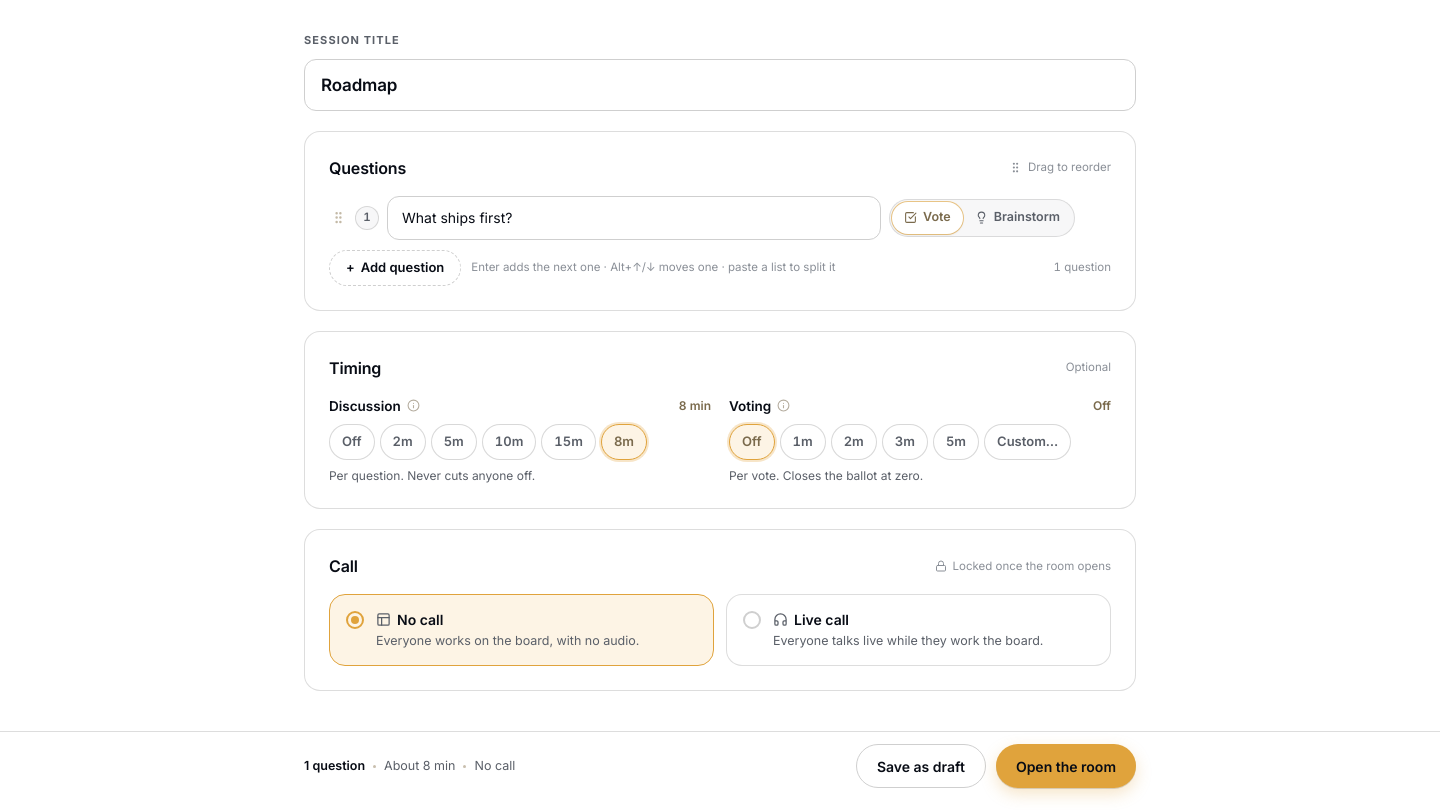
SessionQuestionsForm timers and call › shows a length that is no preset on the Custom chip, with the spinners shut
This screenshot has width=1440, height=810.
Click the button "8m" at (624, 442), box [601, 424, 647, 460]
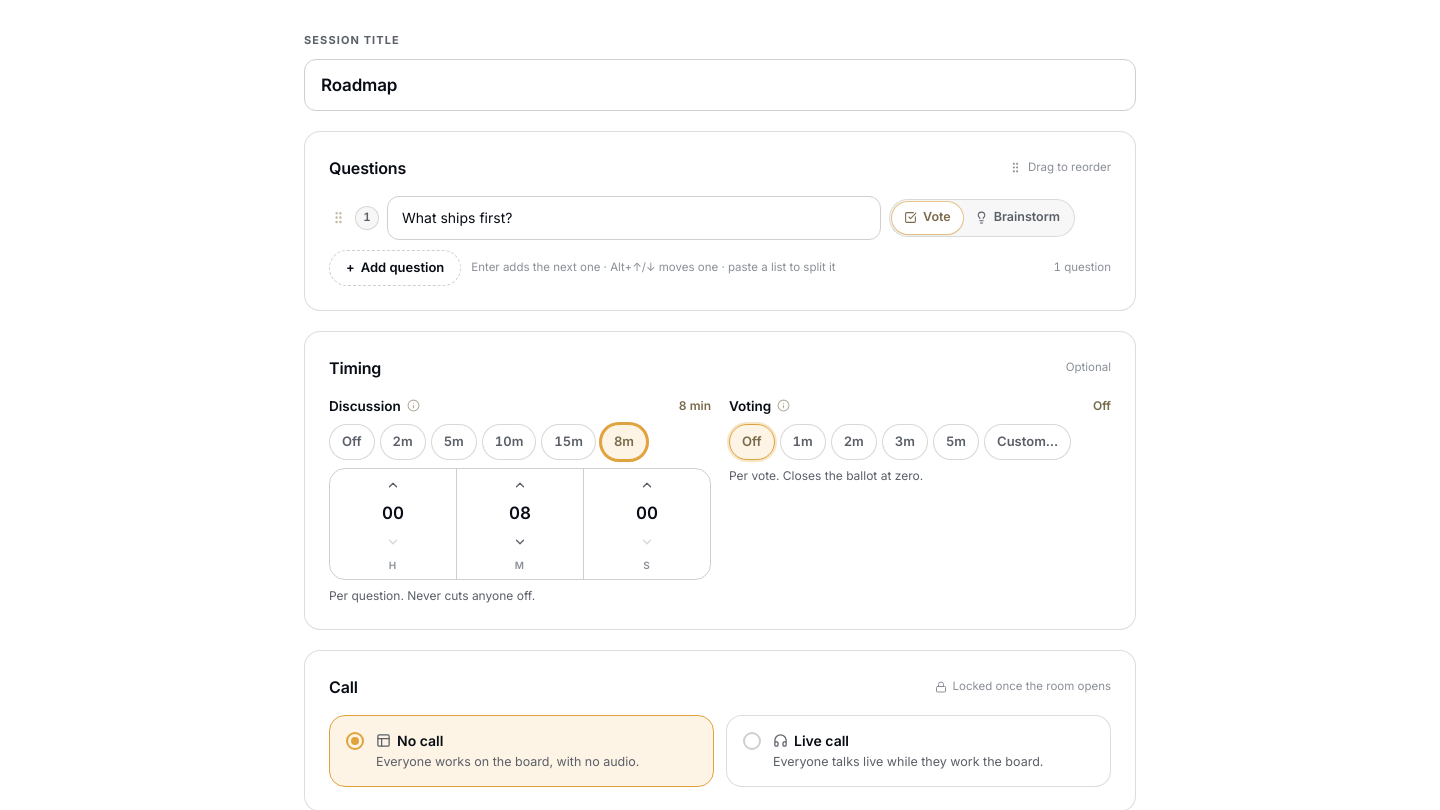
Result: the number field named "Discussion timer minutes" holds "08" at [461, 499, 579, 528]
